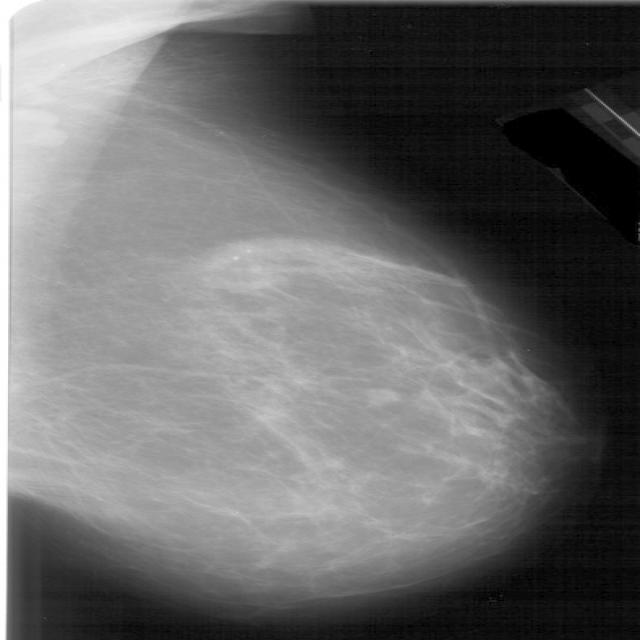tumour: (363, 386, 403, 404)
